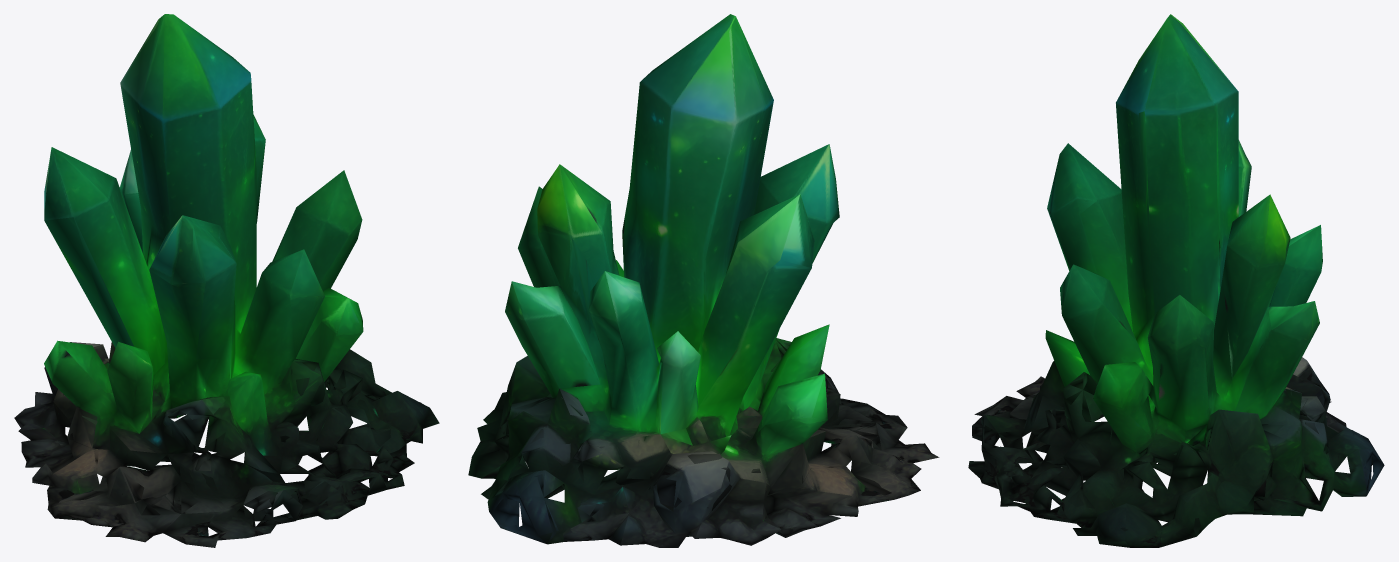
Rendered from crystal.fbx.
3 views of the same model, side by side, from view 1: azimuth 30°, elevation 25°; view 2: azimuth 150°, elevation 25°; view 3: azimuth 270°, elevation 25° (orthographic). The views are drawn at different scales.
Visible parts, largest first — view 1: geometry_0.004; view 2: geometry_0.004; view 3: geometry_0.004.
Boxes of the visible parts, x1,y1,x2,y2 form: geometry_0.004: [14, 14, 439, 547]; geometry_0.004: [468, 14, 939, 547]; geometry_0.004: [968, 14, 1384, 547].
Bounding box in the file's own units: 2.71 × 2.66 × 3.
1 material, 1 textured.
